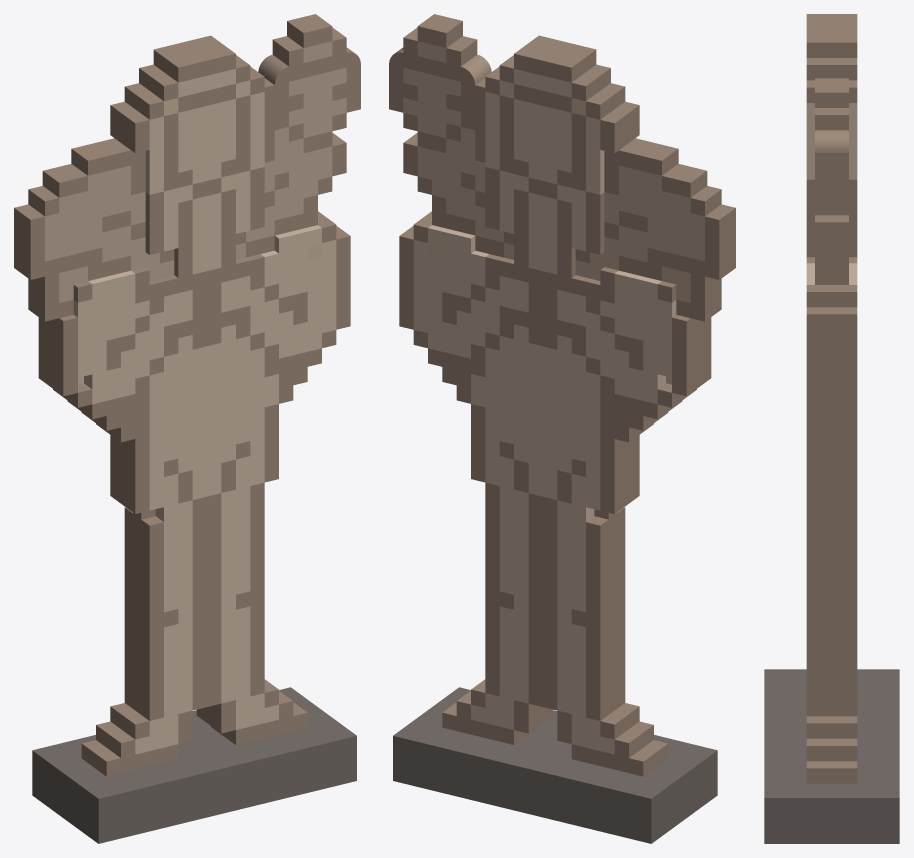
File: CalfBearer.fbx
The picture shows the model from 3 angles, left to right: view 1: azimuth 30°, elevation 25°; view 2: azimuth 150°, elevation 25°; view 3: azimuth 270°, elevation 25°; orthographic projection. The views are drawn at different scales.
Visible parts, largest first — view 1: generated; view 2: generated; view 3: generated.
Part boxes in pixels (left/top/right/bottom): generated: left=14, top=14, right=360, bottom=843; generated: left=389, top=14, right=735, bottom=843; generated: left=764, top=14, right=899, bottom=843.
Bounding box in the file's own units: 23 × 49 × 8.
